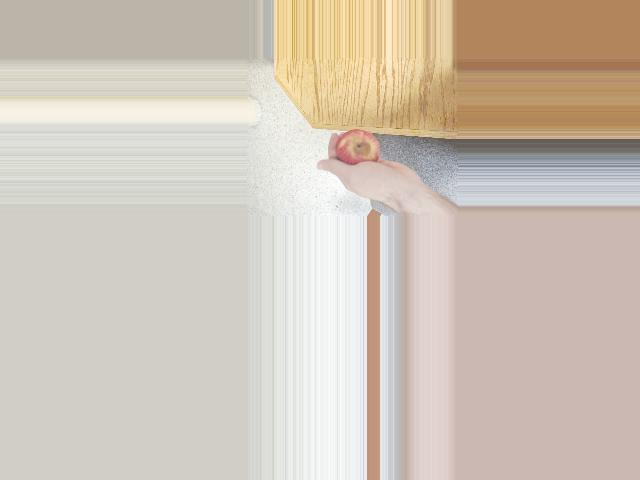apple: (333, 127, 390, 171)
